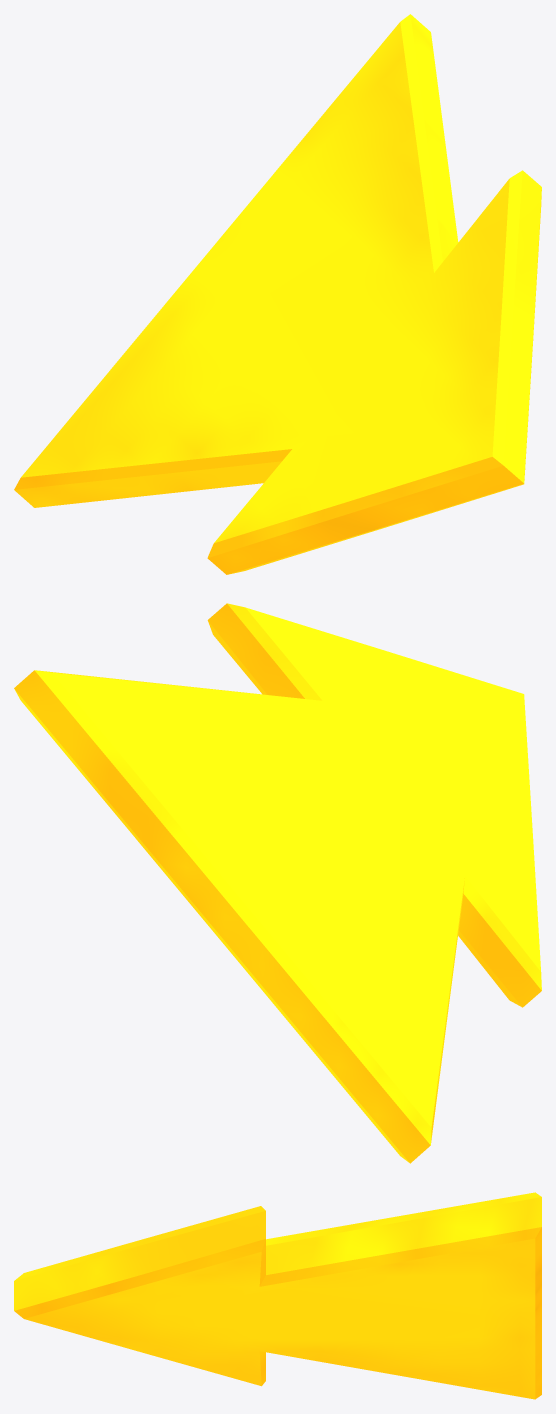
Rendered from R_Botom_Web.glb.
3 renders of one model, top to bottom at view 1: azimuth 30°, elevation 25°; view 2: azimuth 150°, elevation 25°; view 3: azimuth 270°, elevation 25°, orthographic. The views are drawn at different scales.
Parts seen in each view (by area): view 1: R_Button; view 2: R_Button; view 3: R_Button.
Part boxes in pixels (x1=…): R_Button: x1=14, y1=14, x2=541, y2=574; R_Button: x1=14, y1=603, x2=541, y2=1163; R_Button: x1=14, y1=1192, x2=541, y2=1399.
Size of the model in its own units: 0.00686 by 0.00632 by 0.0083.
Materials: 1 (1 with a texture image).
